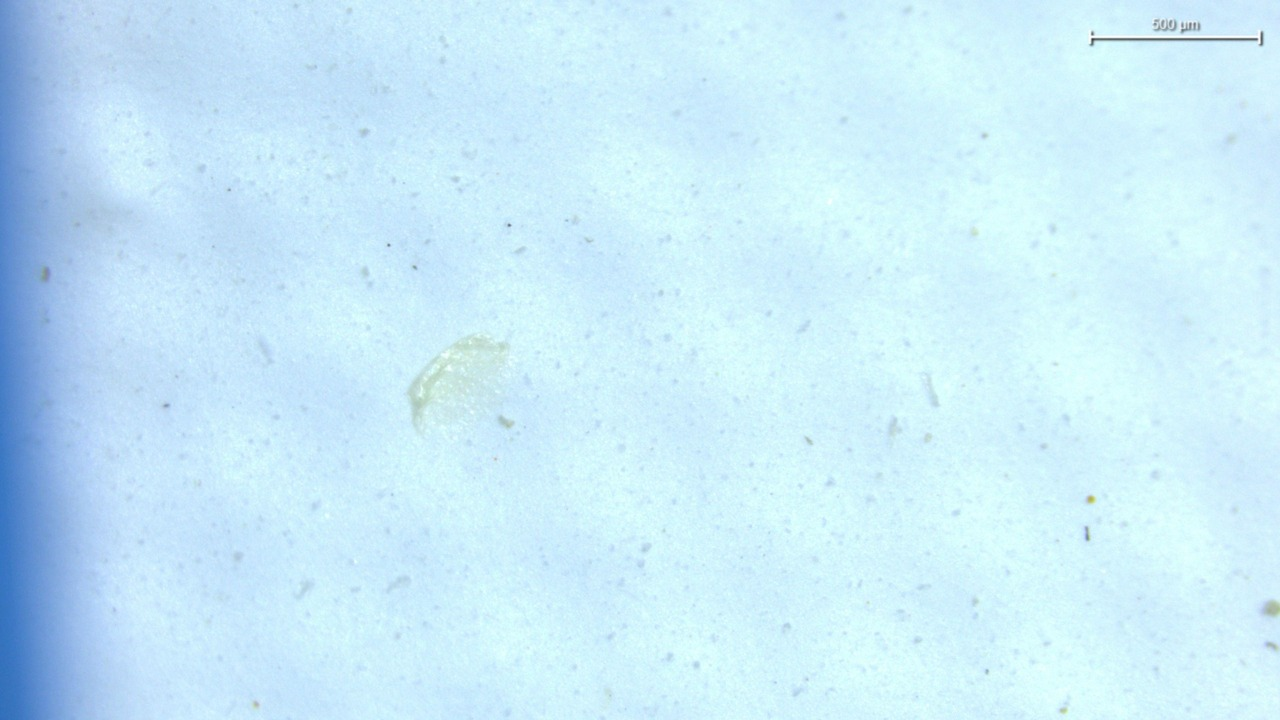microplastic_fragment: (407, 334, 508, 438)
